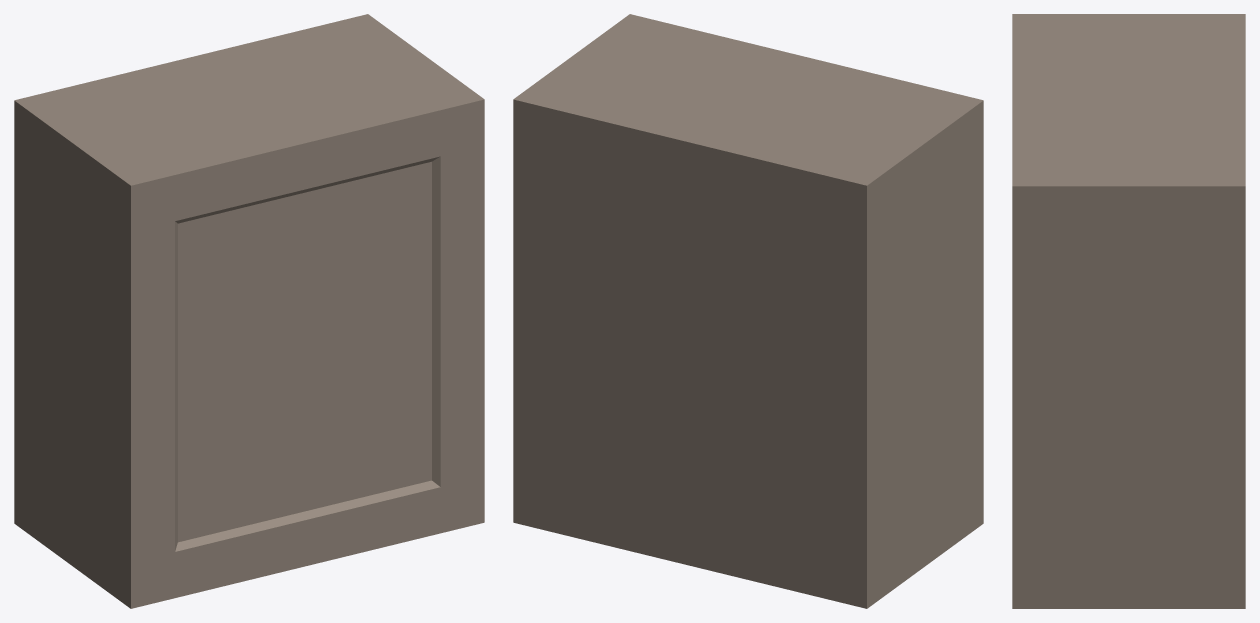
The model's file is Wall-Cabinet-Single-Door-with-Shelves_std_001_H24in_onlyH.glb.
The picture shows the model from 3 angles, left to right: view 1: azimuth 30°, elevation 25°; view 2: azimuth 150°, elevation 25°; view 3: azimuth 270°, elevation 25°; orthographic projection.
Visible parts, largest first — view 1: Wall-Cabinet-Single-Door-with-Shelves.std.001_H24in_onlyH; view 2: Wall-Cabinet-Single-Door-with-Shelves.std.001_H24in_onlyH; view 3: Wall-Cabinet-Single-Door-with-Shelves.std.001_H24in_onlyH.
Part boxes in pixels (x1=…): Wall-Cabinet-Single-Door-with-Shelves.std.001_H24in_onlyH: x1=14, y1=14, x2=484, y2=608; Wall-Cabinet-Single-Door-with-Shelves.std.001_H24in_onlyH: x1=513, y1=14, x2=983, y2=608; Wall-Cabinet-Single-Door-with-Shelves.std.001_H24in_onlyH: x1=1012, y1=14, x2=1245, y2=608.
Size of the model in its own units: 0.5334 by 0.6096 by 0.3048.
